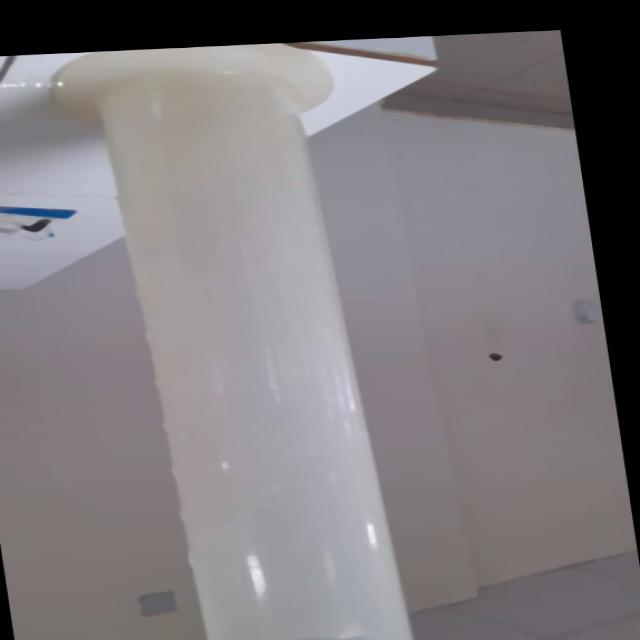Measuring Cylinder: (50, 41, 427, 640)
